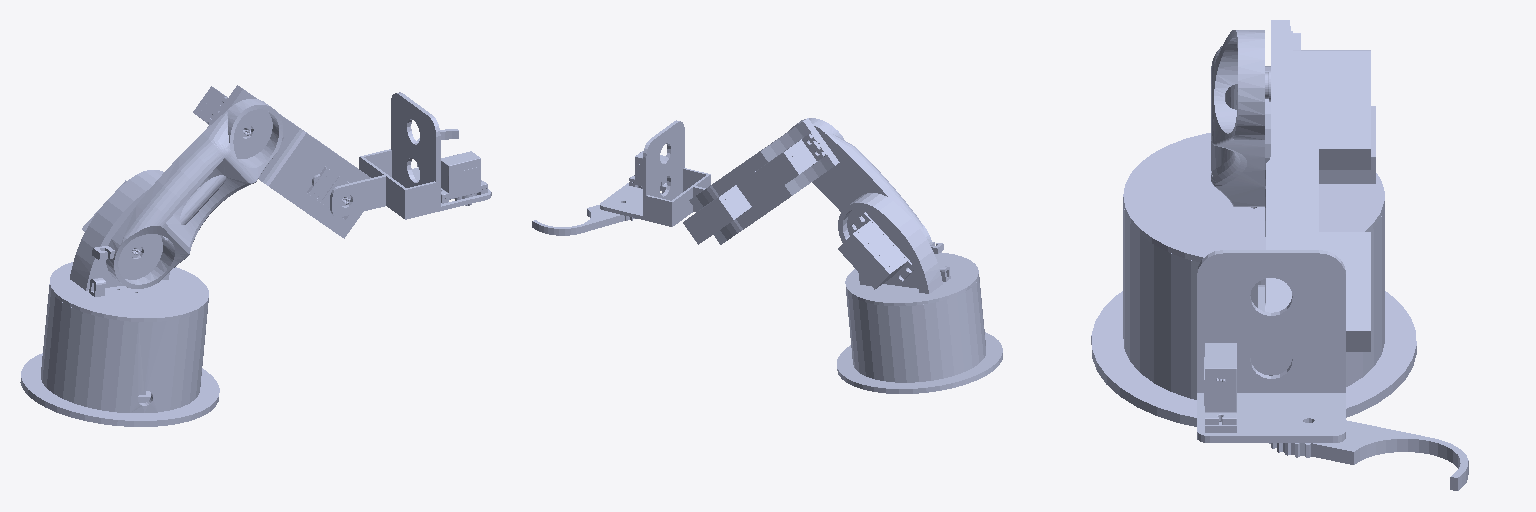
URDF robot description (urdf_raditya):
<?xml version="1.0" encoding="utf-8"?>
<!-- This URDF was automatically created by SolidWorks to URDF Exporter! Originally created by [author] ([email redacted]) 
     Commit Version: 1.6.0-4-g7f85cfe  Build Version: 1.6.7995.38578
     For more information, please see http://wiki.ros.org/sw_urdf_exporter -->
<robot
  name="urdf_raditya">
  <link
    name="base">
    <inertial>
      <origin
        xyz="0.0043052 0.0028062 0.035641"
        rpy="0 0 0" />
      <mass
        value="0.11758" />
      <inertia
        ixx="0.00017835"
        ixy="-4.9135E-06"
        ixz="6.4979E-06"
        iyy="0.00015769"
        iyz="-9.5232E-07"
        izz="0.0002441" />
    </inertial>
    <visual>
      <origin
        xyz="0 0 0"
        rpy="0 0 0" />
      <geometry>
        <mesh
          filename="package://urdf_raditya/meshes/base.STL" />
      </geometry>
      <material
        name="">
        <color
          rgba="0.79216 0.81961 0.93333 1" />
      </material>
    </visual>
    <collision>
      <origin
        xyz="0 0 0"
        rpy="0 0 0" />
      <geometry>
        <mesh
          filename="package://urdf_raditya/meshes/base.STL" />
      </geometry>
    </collision>
  </link>
  <link
    name="piringanatas">
    <inertial>
      <origin
        xyz="0.00662326716442243 0.0146965458645561 -0.0109473531236563"
        rpy="0 0 0" />
      <mass
        value="0.0884033352804417" />
      <inertia
        ixx="4.55811245399596E-05"
        ixy="-2.09957703699821E-06"
        ixz="-1.02156058217576E-05"
        iyy="6.17587106704719E-05"
        iyz="-4.87159977570293E-06"
        izz="5.12104530088391E-05" />
    </inertial>
    <visual>
      <origin
        xyz="0 0 0"
        rpy="0 0 0" />
      <geometry>
        <mesh
          filename="package://urdf_raditya/meshes/piringanatas.STL" />
      </geometry>
      <material
        name="">
        <color
          rgba="0.792156862745098 0.819607843137255 0.933333333333333 1" />
      </material>
    </visual>
    <collision>
      <origin
        xyz="0 0 0"
        rpy="0 0 0" />
      <geometry>
        <mesh
          filename="package://urdf_raditya/meshes/piringanatas.STL" />
      </geometry>
    </collision>
  </link>
  <joint
    name="piringanatas"
    type="revolute">
    <origin
      xyz="0.011252 0 0.10942"
      rpy="0 0 0" />
    <parent
      link="base" />
    <child
      link="piringanatas" />
    <axis
      xyz="0.10229 0 0.99475" />
    <limit
      lower="0"
      upper="0"
      effort="2.5"
      velocity="5.76" />
  </joint>
  <link
    name="motor1 ">
    <inertial>
      <origin
        xyz="0.0349883501664646 0.0342885052966822 0.0052242919654968"
        rpy="0 0 0" />
      <mass
        value="0.0545469130635853" />
      <inertia
        ixx="2.80911055796775E-05"
        ixy="-2.130323205718E-05"
        ixz="2.16163102918942E-07"
        iyy="3.70841053280018E-05"
        iyz="-1.97313364931075E-07"
        izz="6.22148447294734E-05" />
    </inertial>
    <visual>
      <origin
        xyz="0 0 0"
        rpy="0 0 0" />
      <geometry>
        <mesh
          filename="package://urdf_raditya/meshes/motor1 .STL" />
      </geometry>
      <material
        name="">
        <color
          rgba="0.792156862745098 0.819607843137255 0.933333333333333 1" />
      </material>
    </visual>
    <collision>
      <origin
        xyz="0 0 0"
        rpy="0 0 0" />
      <geometry>
        <mesh
          filename="package://urdf_raditya/meshes/motor1 .STL" />
      </geometry>
    </collision>
  </link>
  <joint
    name="servomotor1"
    type="revolute">
    <origin
      xyz="0.0042247 0.002 -0.011804"
      rpy="1.5708 0 0" />
    <parent
      link="piringanatas" />
    <child
      link="motor1 " />
    <axis
      xyz="0 0 1" />
    <limit
      lower="0"
      upper="0"
      effort="0.98067"
      velocity="5.236" />
  </joint>
  <link
    name="motor2">
    <inertial>
      <origin
        xyz="0.0352554172350953 -0.0315939483237078 -0.0194154666200635"
        rpy="0 0 0" />
      <mass
        value="0.109552734720318" />
      <inertia
        ixx="3.92889178697021E-05"
        ixy="2.2724246582332E-05"
        ixz="-5.50089290835613E-07"
        iyy="4.42825027669035E-05"
        iyz="4.92959485388425E-07"
        izz="6.80493347917691E-05" />
    </inertial>
    <visual>
      <origin
        xyz="0 0 0"
        rpy="0 0 0" />
      <geometry>
        <mesh
          filename="package://urdf_raditya/meshes/motor2.STL" />
      </geometry>
      <material
        name="">
        <color
          rgba="0.792156862745098 0.819607843137255 0.933333333333333 1" />
      </material>
    </visual>
    <collision>
      <origin
        xyz="0 0 0"
        rpy="0 0 0" />
      <geometry>
        <mesh
          filename="package://urdf_raditya/meshes/motor2.STL" />
      </geometry>
    </collision>
  </link>
  <joint
    name="servomotor2"
    type="revolute">
    <origin
      xyz="0.076652 0.06326 0.0015268"
      rpy="0 0 0" />
    <parent
      link="motor1 " />
    <child
      link="motor2" />
    <axis
      xyz="0 0 1" />
    <limit
      lower="0"
      upper="0"
      effort="0.98067"
      velocity="5.235988" />
  </joint>
  <link
    name="motor3">
    <inertial>
      <origin
        xyz="0.0583304982650656 0.00604336651666494 -0.00131353241637874"
        rpy="0 0 0" />
      <mass
        value="0.027699365241157" />
      <inertia
        ixx="1.24797328388083E-05"
        ixy="8.87925120299493E-07"
        ixz="4.4734907042381E-07"
        iyy="1.39469631273968E-05"
        iyz="-1.09921993680852E-07"
        izz="1.46725992354734E-05" />
    </inertial>
    <visual>
      <origin
        xyz="0 0 0"
        rpy="0 0 0" />
      <geometry>
        <mesh
          filename="package://urdf_raditya/meshes/motor3.STL" />
      </geometry>
      <material
        name="">
        <color
          rgba="0.792156862745098 0.819607843137255 0.933333333333333 1" />
      </material>
    </visual>
    <collision>
      <origin
        xyz="0 0 0"
        rpy="0 0 0" />
      <geometry>
        <mesh
          filename="package://urdf_raditya/meshes/motor3.STL" />
      </geometry>
    </collision>
  </link>
  <joint
    name="servomotor3"
    type="revolute">
    <origin
      xyz="0.067697 -0.062662 0.00031939"
      rpy="0 0 0" />
    <parent
      link="motor2" />
    <child
      link="motor3" />
    <axis
      xyz="0 0 1" />
    <limit
      lower="0"
      upper="0"
      effort="0.98067"
      velocity="5.235988" />
  </joint>
  <link
    name="motor4_1 ">
    <inertial>
      <origin
        xyz="0.0035895 0.010018 0.0019105"
        rpy="0 0 0" />
      <mass
        value="0.0077585" />
      <inertia
        ixx="2.9119E-06"
        ixy="-9.2343E-07"
        ixz="2.7316E-10"
        iyy="1.0285E-06"
        iyz="2.1088E-09"
        izz="3.9017E-06" />
    </inertial>
    <visual>
      <origin
        xyz="0 0 0"
        rpy="0 0 0" />
      <geometry>
        <mesh
          filename="package://urdf_raditya/meshes/motor4_1 .STL" />
      </geometry>
      <material
        name="">
        <color
          rgba="0.79216 0.81961 0.93333 1" />
      </material>
    </visual>
    <collision>
      <origin
        xyz="0 0 0"
        rpy="0 0 0" />
      <geometry>
        <mesh
          filename="package://urdf_raditya/meshes/motor4_1 .STL" />
      </geometry>
    </collision>
  </link>
  <joint
    name="motor4_1"
    type="continuous">
    <origin
      xyz="0.079299 -0.012227 0.012654"
      rpy="1.5708 0 0" />
    <parent
      link="motor3" />
    <child
      link="motor4_1 " />
    <axis
      xyz="0 0 1" />
    <limit
      effort="0.21575"
      velocity="10.472" />
  </joint>
  <link
    name="enpoint1">
    <inertial>
      <origin
        xyz="-0.21395 -0.077752 -0.011647"
        rpy="0 0 0" />
      <mass
        value="0" />
      <inertia
        ixx="0"
        ixy="0"
        ixz="0"
        iyy="0"
        iyz="0"
        izz="0" />
    </inertial>
    <visual>
      <origin
        xyz="0 0 0"
        rpy="0 0 0" />
      <geometry>
        <mesh
          filename="package://urdf_raditya/meshes/enpoint1.STL" />
      </geometry>
      <material
        name="">
        <color
          rgba="1 1 1 1" />
      </material>
    </visual>
    <collision>
      <origin
        xyz="0 0 0"
        rpy="0 0 0" />
      <geometry>
        <mesh
          filename="package://urdf_raditya/meshes/enpoint1.STL" />
      </geometry>
    </collision>
  </link>
  <joint
    name="enpoint1"
    type="prismatic">
    <origin
      xyz="0.043565 0.056218 0.0045594"
      rpy="0 0 0" />
    <parent
      link="motor4_1 " />
    <child
      link="enpoint1" />
    <axis
      xyz="0 0 -1" />
    <limit
      lower="0"
      upper="0"
      effort="0"
      velocity="0" />
  </joint>
  <link
    name="motor4_2">
    <inertial>
      <origin
        xyz="0.00505708180058315 -0.0137191901792812 0.000268228191316597"
        rpy="0 0 0" />
      <mass
        value="0.00657272815903351" />
      <inertia
        ixx="2.3056169265561E-06"
        ixy="8.22797324331261E-07"
        ixz="3.97046694025453E-22"
        iyy="7.19004749886812E-07"
        iyz="-4.08006837141781E-22"
        izz="2.99148417197445E-06" />
    </inertial>
    <visual>
      <origin
        xyz="0 0 0"
        rpy="0 0 0" />
      <geometry>
        <mesh
          filename="package://urdf_raditya/meshes/motor4_2.STL" />
      </geometry>
      <material
        name="">
        <color
          rgba="0.792156862745098 0.819607843137255 0.933333333333333 1" />
      </material>
    </visual>
    <collision>
      <origin
        xyz="0 0 0"
        rpy="0 0 0" />
      <geometry>
        <mesh
          filename="package://urdf_raditya/meshes/motor4_2.STL" />
      </geometry>
    </collision>
  </link>
  <joint
    name="motor4_2"
    type="revolute">
    <origin
      xyz="0.079699 -0.012268 -0.020346"
      rpy="1.5708 0 0" />
    <parent
      link="motor3" />
    <child
      link="motor4_2" />
    <axis
      xyz="0 0 1" />
    <limit
      lower="0"
      upper="0"
      effort="0.21575"
      velocity="10.472" />
  </joint>
  <link
    name="enpoint2">
    <inertial>
      <origin
        xyz="-0.2113 0.068943 -0.010147"
        rpy="0 0 0" />
      <mass
        value="0" />
      <inertia
        ixx="0"
        ixy="0"
        ixz="0"
        iyy="0"
        iyz="0"
        izz="0" />
    </inertial>
    <visual>
      <origin
        xyz="0 0 0"
        rpy="0 0 0" />
      <geometry>
        <mesh
          filename="package://urdf_raditya/meshes/enpoint2.STL" />
      </geometry>
      <material
        name="">
        <color
          rgba="1 1 1 1" />
      </material>
    </visual>
    <collision>
      <origin
        xyz="0 0 0"
        rpy="0 0 0" />
      <geometry>
        <mesh
          filename="package://urdf_raditya/meshes/enpoint2.STL" />
      </geometry>
    </collision>
  </link>
  <joint
    name="enpoint2"
    type="fixed">
    <origin
      xyz="0.0405174702530282 -0.0574771522449544 0.00301822819131661"
      rpy="0 0 0" />
    <parent
      link="motor4_2" />
    <child
      link="enpoint2" />
    <axis
      xyz="0 0 0" />
  </joint>
</robot>

--- Render facts (derived) ---
3 views of the same robot in one strip: view 1: azimuth 30°, elevation 25°; view 2: azimuth 150°, elevation 25°; view 3: azimuth 270°, elevation 25° (orthographic).
Robot: urdf_raditya — 9 links, 8 joints (5 revolute, 1 continuous, 1 prismatic, 1 fixed); root link base; default pose: every joint at zero.
Links seen in each view (by area): view 1: base, motor1, motor3, piringanatas, motor2; view 2: base, piringanatas, motor2, motor3, motor1, motor4_2; view 3: motor3, base, motor2, piringanatas, motor1, motor4_2.
Boxes of the visible links, box(x1,y1,x2,y2) form: base: box(20, 284, 219, 426); motor1: box(92, 99, 282, 288); motor3: box(330, 92, 491, 219); piringanatas: box(49, 170, 208, 321); motor2: box(193, 85, 370, 238); base: box(837, 277, 1002, 393); piringanatas: box(838, 193, 978, 305); motor2: box(683, 118, 839, 244); motor3: box(600, 120, 710, 226); motor1: box(789, 118, 943, 253); motor4_2: box(532, 205, 636, 235); motor3: box(1197, 250, 1345, 442); base: box(1091, 203, 1416, 426); motor2: box(1265, 20, 1370, 375); piringanatas: box(1123, 66, 1384, 261); motor1: box(1211, 30, 1264, 206); motor4_2: box(1269, 420, 1468, 490).
Size in the robot's own frame: 0.3433 by 0.1412 by 0.1844 metres.
Meshes: 9 distinct files referenced, 6 mesh visuals loaded (6 binary STL); not drawn: 1 (reference not matched to a file when rendering), 2 (file found but could not be loaded).
